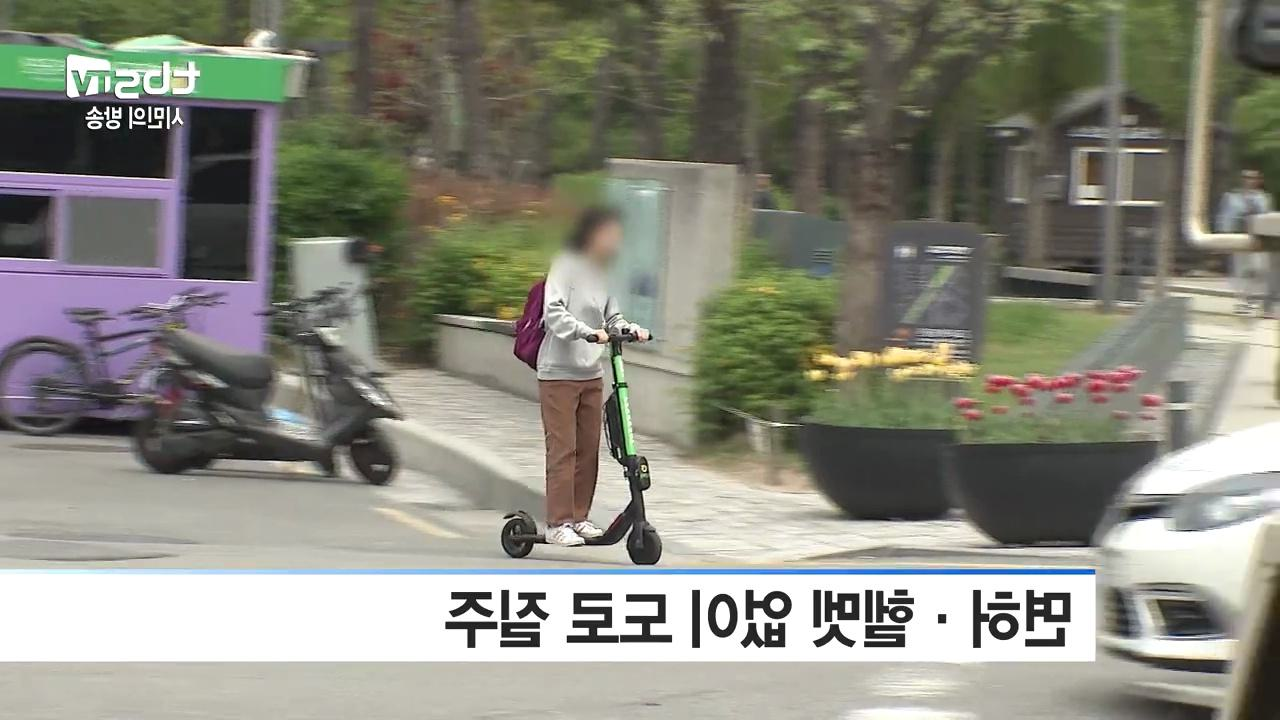nonhelmet: (492, 204, 668, 568)
